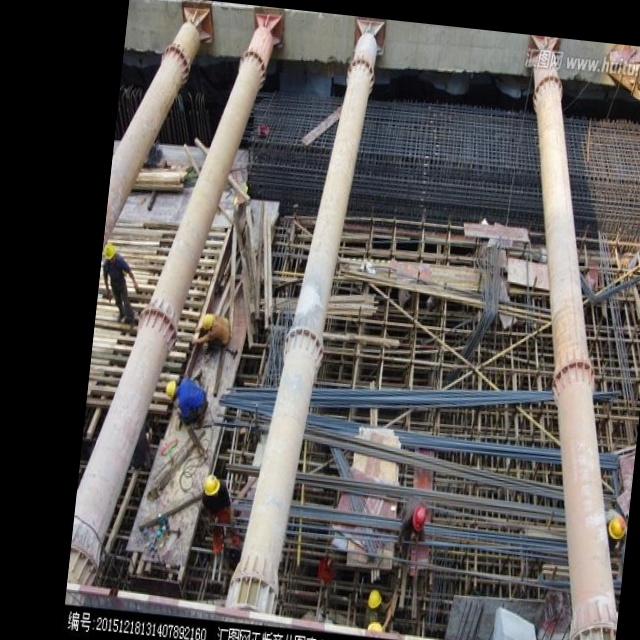Con_Casco: (411, 504, 429, 534), (202, 471, 221, 499), (163, 377, 179, 403)
